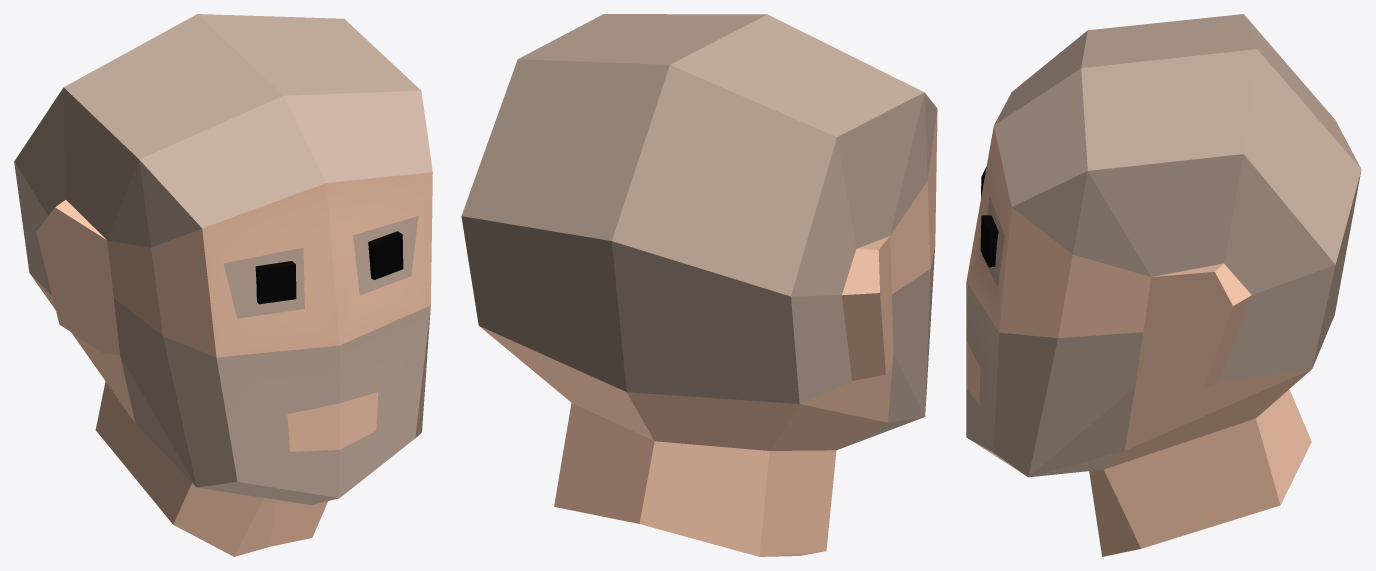
File: Chr_Head_Male_08_Static.fbx
The picture shows the model from 3 angles, left to right: view 1: azimuth 30°, elevation 25°; view 2: azimuth 150°, elevation 25°; view 3: azimuth 270°, elevation 25°; orthographic projection. The views are drawn at different scales.
Parts seen in each view (by area): view 1: Chr_Head_Male_08_Static; view 2: Chr_Head_Male_08_Static; view 3: Chr_Head_Male_08_Static.
Boxes of the visible parts, <box> form: Chr_Head_Male_08_Static: <box>14,14,432,556</box>; Chr_Head_Male_08_Static: <box>461,14,937,556</box>; Chr_Head_Male_08_Static: <box>966,14,1361,556</box>.
Bounding box in the file's own units: 0.2661 × 0.3523 × 0.2574.
